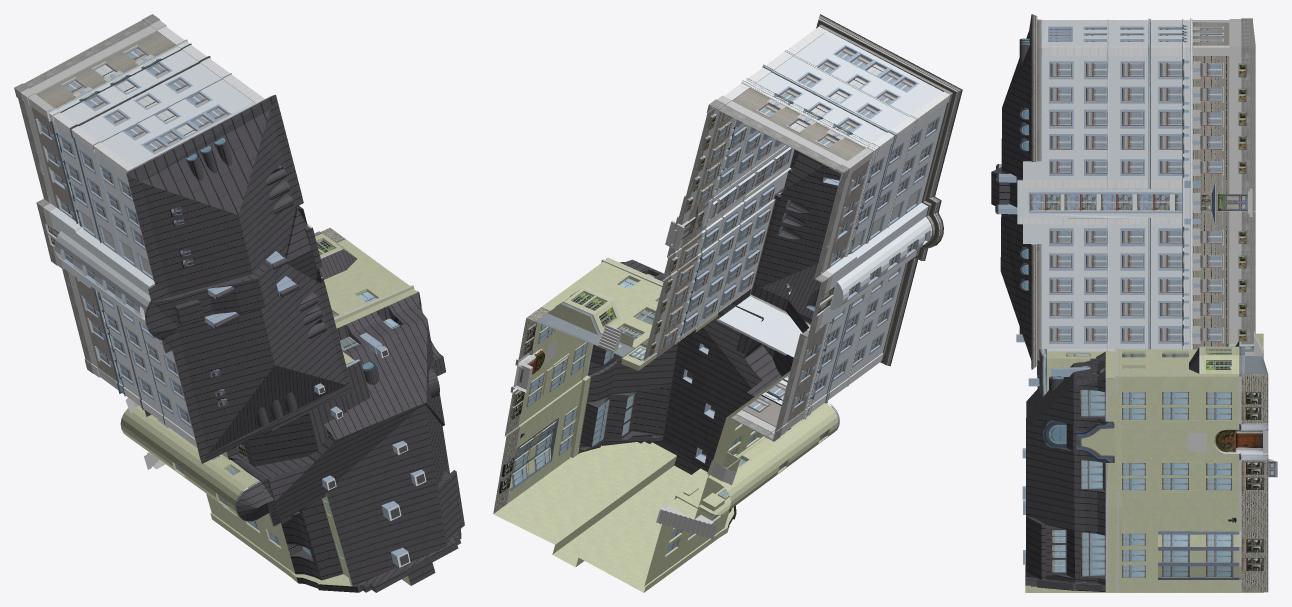
File: Toompea_8_2.obj
The picture shows the model from 3 angles, left to right: view 1: azimuth 30°, elevation 25°; view 2: azimuth 150°, elevation 25°; view 3: azimuth 270°, elevation 25°; orthographic projection. The views are drawn at different scales.
Visible parts, largest first — view 1: polySurface352; view 2: polySurface352; view 3: polySurface352.
Part boxes in pixels (left/top/right/bottom): polySurface352: left=14, top=14, right=464, bottom=592; polySurface352: left=493, top=14, right=962, bottom=592; polySurface352: left=991, top=14, right=1277, bottom=592.
Bounding box in the file's own units: 36.4 × 50.35 × 26.4.
